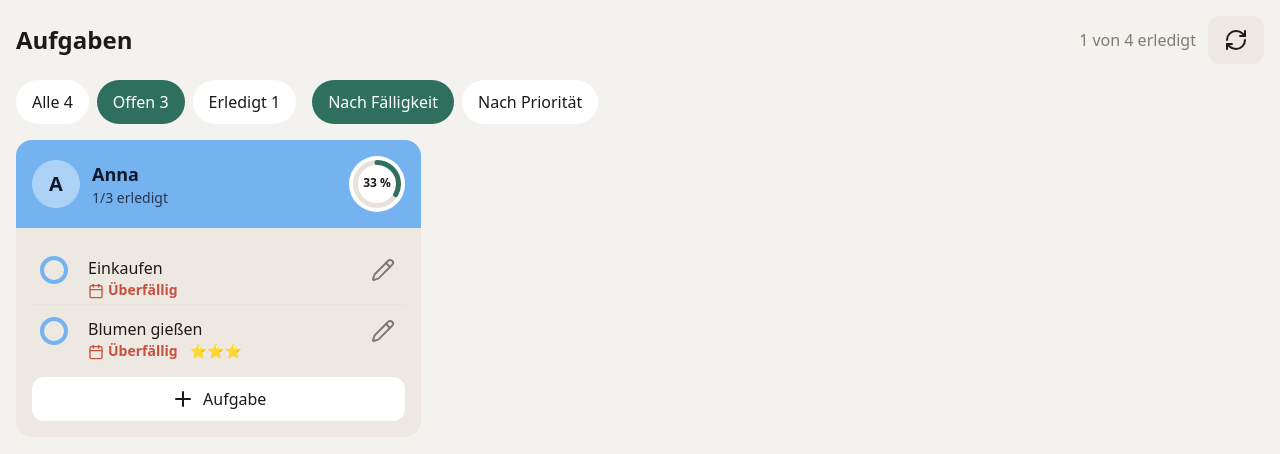
TasksView › switches the filter and updates the shown tasks
The width and height of the screenshot is (1280, 454).
Step 1. Click the button "Erledigt 1" → (244, 102), box x1=193 y1=80 x2=296 y2=124
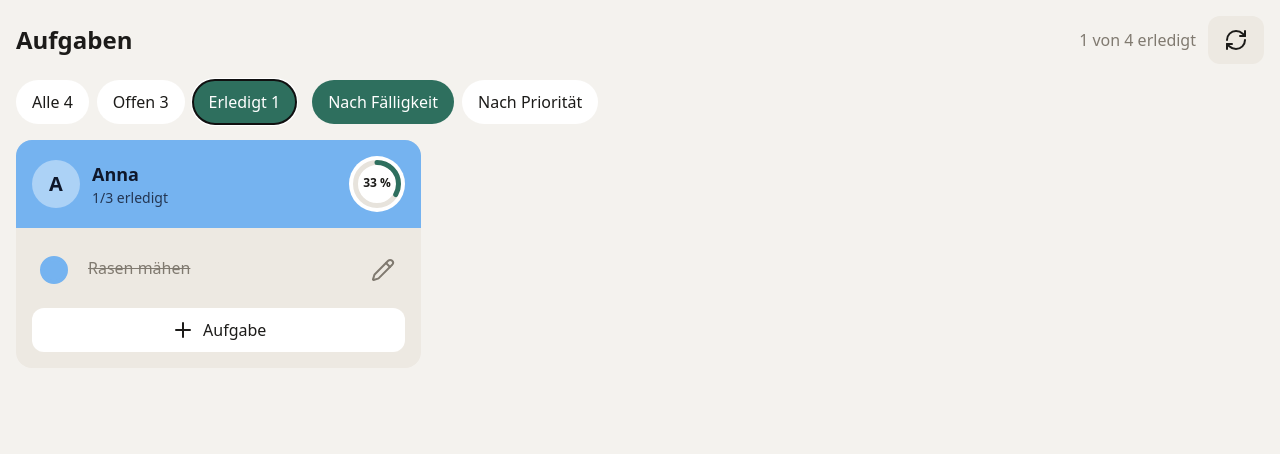
Now the text "Rasen mähen" is shown, box x1=88 y1=257 x2=190 y2=279
Now the text "Einkaufen" is gone
